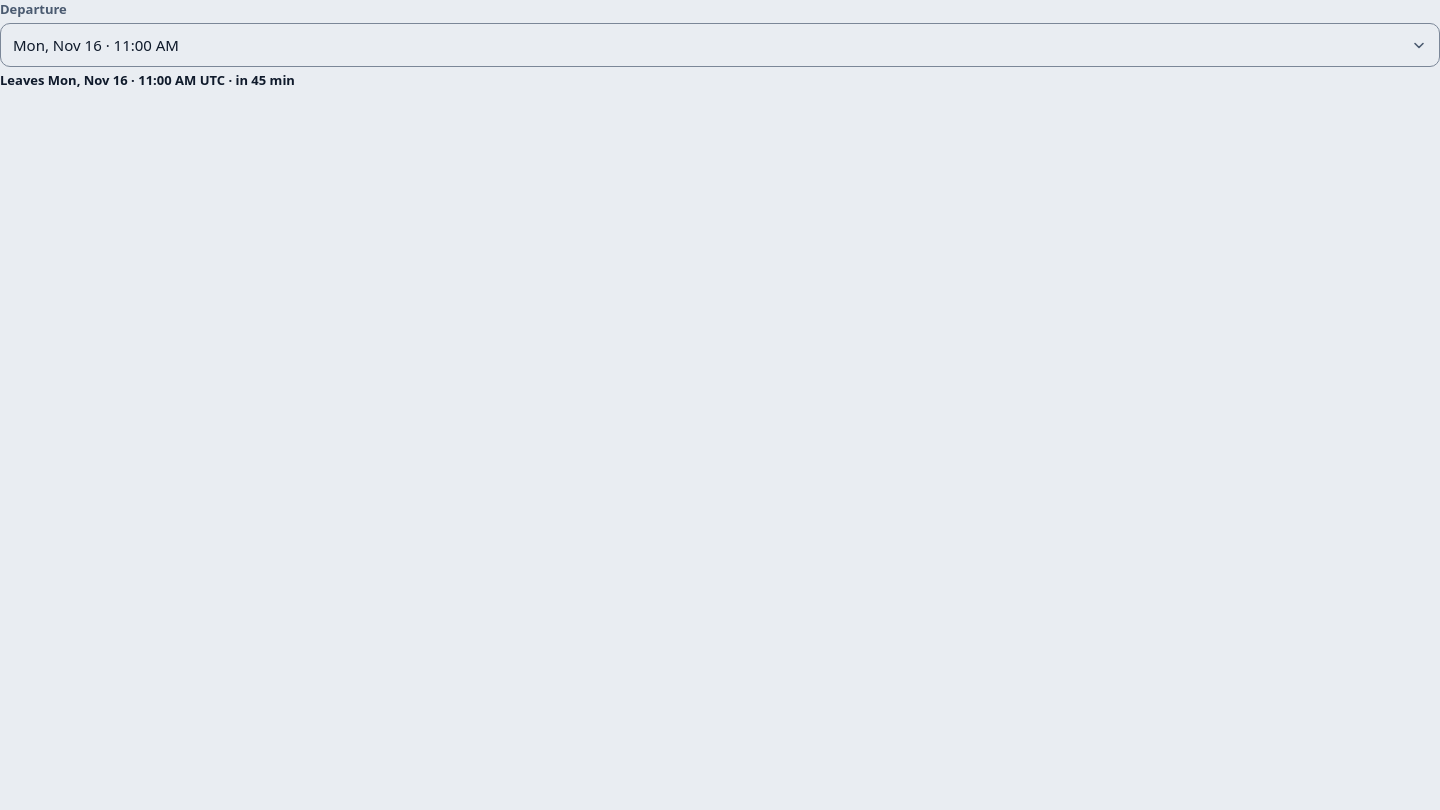
DeparturePicker › sets tomorrow at 6 AM from a quick pick and keeps that choice highlighted
The width and height of the screenshot is (1440, 810).
Click the button with test id "departure-trigger" at (96, 45), box [0,23,1439,67]
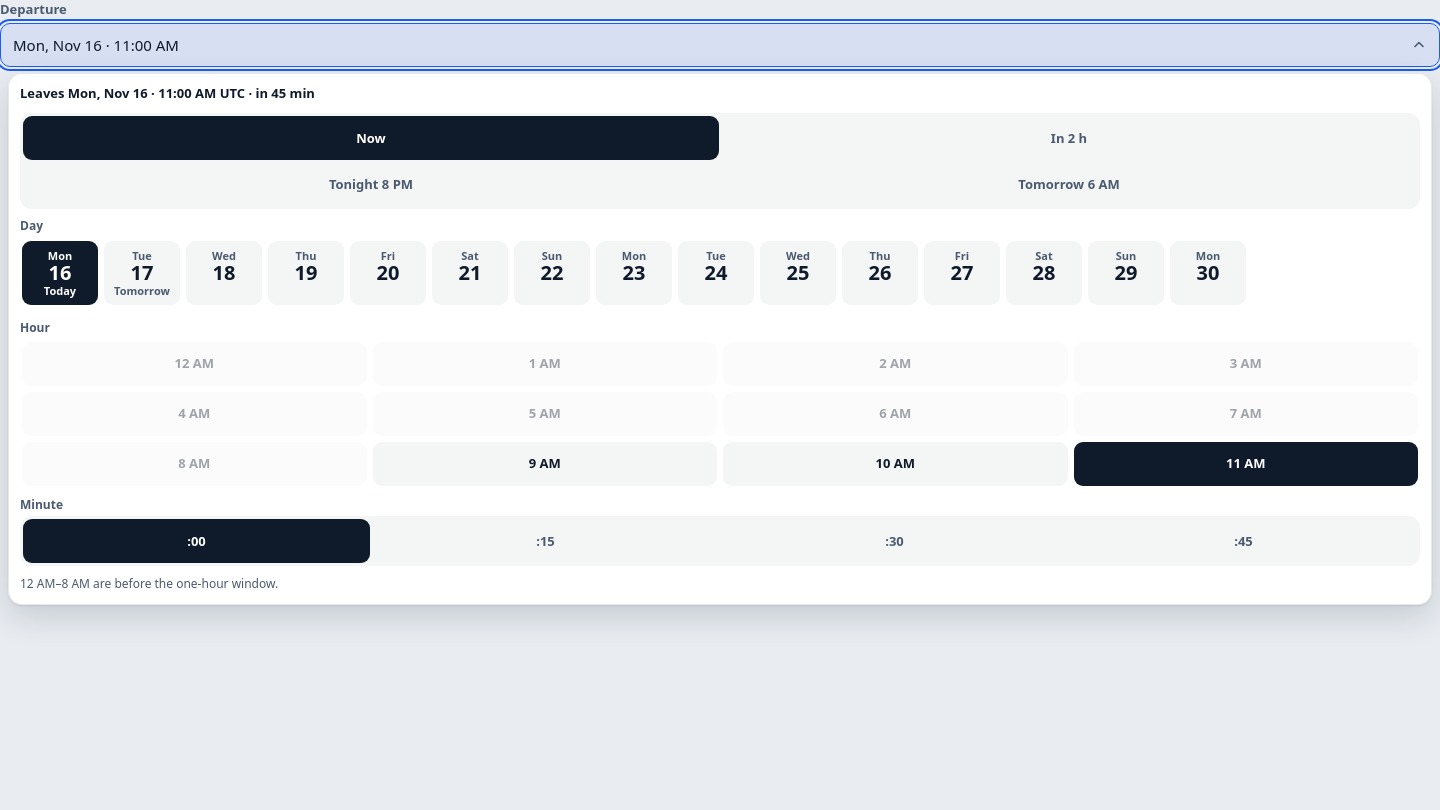
Click the radio button labelled "Tomorrow 6 AM" at (1069, 184), box [721,162,1417,206]
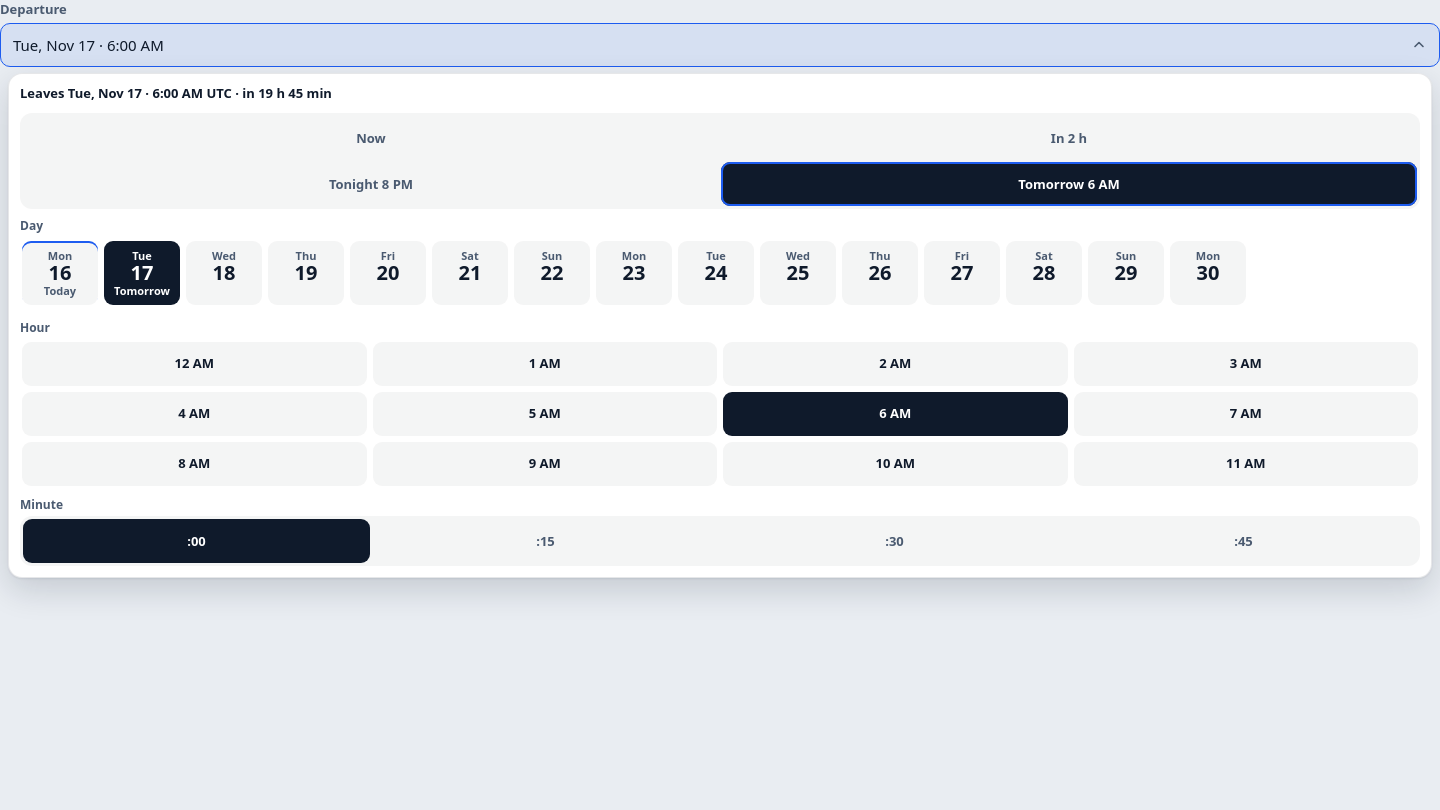
Expected: the text with test id "departure-summary" reads "Leaves Tue, Nov 17 · 6:00 AM UTC · in 19 h 45 min", [20,84,332,102]
